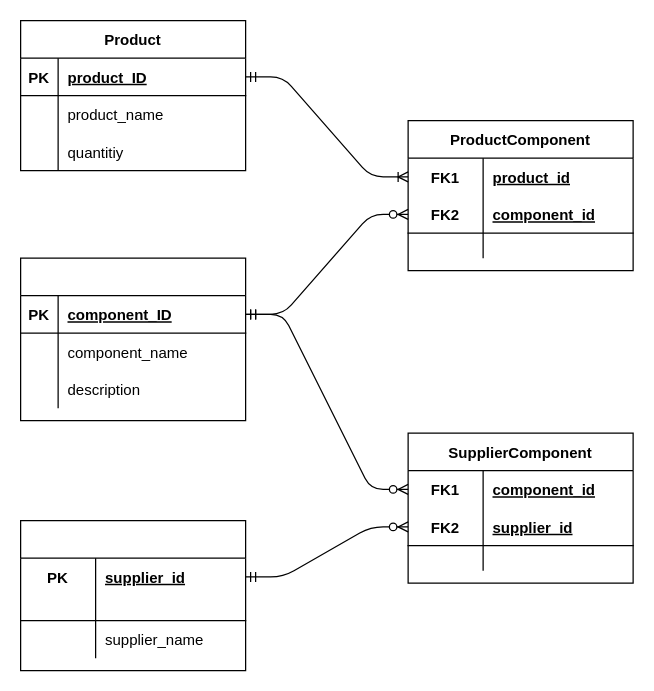
Image size: 654x691. Some labels were removed from this diagram. The shapes that lost their labels are listed below. From the top down, each one's box as (x1, y1, x2, y2) in pixels, then its label:
(19, 257, 246, 421): Components
(19, 519, 246, 671): Suppliers
